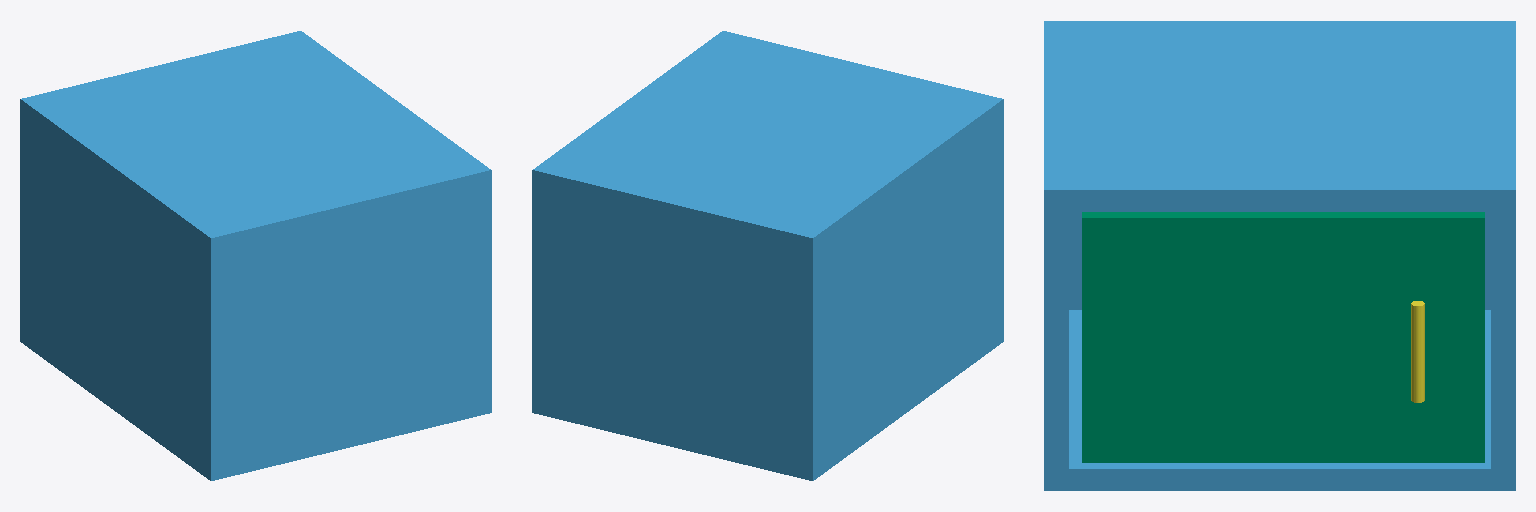
robot.urdf — my_cabinet:
<?xml version="1.0" ?>
<robot name="my_cabinet">
	<link name="world"/>
	<joint name="virtual_joint" type="fixed">
		<parent link="world"/>
		<child link="base_cabinet_link"/>
		<origin xyz="0.0 0.0 0.0" rpy="0.0 0.0 0.0"/>
	</joint>
	<link name="base_cabinet_link">
		<visual>
			<origin xyz="0.0 -0.0025 -0.11518015602135884" rpy="0.0 0.0 0.0"/>
			<geometry>
				<box size="0.3 0.35291790624515396 0.018"/>
			</geometry>
		</visual>
		<collision name="base_cabinet_link_collision_0">
			<origin xyz="0.0 -0.0025 -0.11518015602135884" rpy="0.0 0.0 0.0"/>
			<geometry>
				<box size="0.3 0.35291790624515396 0.018"/>
			</geometry>
		</collision>
		<visual>
			<origin xyz="0.0 0.164958953122577 0.0" rpy="0.0 0.0 0.0"/>
			<geometry>
				<box size="0.3 0.018 0.24836031204271766"/>
			</geometry>
		</visual>
		<collision name="base_cabinet_link_collision_1">
			<origin xyz="0.0 0.164958953122577 0.0" rpy="0.0 0.0 0.0"/>
			<geometry>
				<box size="0.3 0.018 0.24836031204271766"/>
			</geometry>
		</collision>
		<visual>
			<origin xyz="0.0 -0.169958953122577 0.0" rpy="0.0 0.0 0.0"/>
			<geometry>
				<box size="0.3 0.018 0.24836031204271766"/>
			</geometry>
		</visual>
		<collision name="base_cabinet_link_collision_2">
			<origin xyz="0.0 -0.169958953122577 0.0" rpy="0.0 0.0 0.0"/>
			<geometry>
				<box size="0.3 0.018 0.24836031204271766"/>
			</geometry>
		</collision>
		<visual>
			<origin xyz="0.0 -0.0025 0.11518015602135884" rpy="0.0 0.0 0.0"/>
			<geometry>
				<box size="0.3 0.35291790624515396 0.018"/>
			</geometry>
		</visual>
		<collision name="base_cabinet_link_collision_3">
			<origin xyz="0.0 -0.0025 0.11518015602135884" rpy="0.0 0.0 0.0"/>
			<geometry>
				<box size="0.3 0.35291790624515396 0.018"/>
			</geometry>
		</collision>
		<visual>
			<origin xyz="-0.141 -0.0025 0.0" rpy="0.0 0.0 0.0"/>
			<geometry>
				<box size="0.018 0.35291790624515396 0.24836031204271766"/>
			</geometry>
		</visual>
		<collision name="base_cabinet_link_collision_4">
			<origin xyz="-0.141 -0.0025 0.0" rpy="0.0 0.0 0.0"/>
			<geometry>
				<box size="0.018 0.35291790624515396 0.24836031204271766"/>
			</geometry>
		</collision>
		<inertial>
			<mass value="0.200000"/>
			<inertia ixx="0.003104" ixy="0.0" ixz="0.0" iyy="0.002528" iyz="0.0" izz="0.003576"/>
		</inertial>
	</link>
	<link name="door_link">
		<visual>
			<origin xyz="0.0 -0.15095895312257698 0.0"/>
			<geometry>
				<box size="0.018 0.30191790624515397 0.20236031204271768"/>
			</geometry>
		</visual>
		<collision name="door_link_collision">
			<origin xyz="0.0 -0.15095895312257698 0.0"/>
			<geometry>
				<box size="0.018 0.30191790624515397 0.20236031204271768"/>
			</geometry>
		</collision>
		<inertial>
			<mass value="0.200000"/>
			<inertia ixx="0.002202" ixy="0.0" ixz="0.0" iyy="0.000688" iyz="0.0" izz="0.001525"/>
		</inertial>
	</link>
	<joint name="door_joint" type="revolute">
		<origin xyz="0.141 -0.15095895312257698 0.0" rpy="0.000000 -0.000000 3.141593"/>
		<axis xyz="0 0 1"/>
		<parent link="base_cabinet_link"/>
		<child link="door_link"/>
		<limit effort="50" lower="-1.658062789394613" upper="0" velocity="10"/>
		<dynamics friction="3.5" damping="3.5"/>
	</joint>
	<link name="handle_link">
		<visual>
			<origin xyz="0.0 0.0 0.0" rpy="0.0 0.0 0.0"/>
			<geometry>
				<cylinder length="0.08" radius="0.005"/>
			</geometry>
		</visual>
		<collision name="handle_link_collision_0">
			<origin xyz="0.0 0.0 0.0" rpy="0.0 0.0 0.0"/>
			<geometry>
				<cylinder length="0.08" radius="0.005"/>
			</geometry>
		</collision>
		<visual>
			<origin xyz="-0.01 0.0 0.02" rpy="0.0 1.5707963267948966 0.0"/>
			<geometry>
				<cylinder length="0.02" radius="0.003"/>
			</geometry>
		</visual>
		<collision name="handle_link_collision_1">
			<origin xyz="-0.01 0.0 0.02" rpy="0.0 1.5707963267948966 0.0"/>
			<geometry>
				<cylinder length="0.01" radius="0.003"/>
			</geometry>
		</collision>
		<visual>
			<origin xyz="-0.01 0.0 -0.02" rpy="0.0 1.5707963267948966 0.0"/>
			<geometry>
				<cylinder length="0.02" radius="0.003"/>
			</geometry>
		</visual>
		<collision name="handle_link_collision_2">
			<origin xyz="-0.01 0.0 -0.02" rpy="0.0 1.5707963267948966 0.0"/>
			<geometry>
				<cylinder length="0.02" radius="0.003"/>
			</geometry>
		</collision>
		<inertial>
			<mass value="0.050000"/>
			<inertia ixx="0.000027" ixy="0.0" ixz="0.0" iyy="0.000029" iyz="0.0" izz="0.000003"/>
		</inertial>
	</link>
	<joint name="handle_joint" type="fixed">
		<origin xyz="-0.028999999999999998 -0.251917906245154 0.0" rpy="0.000000 -0.000000 3.141593"/>
		<parent link="door_link"/>
		<child link="handle_link"/>
	</joint>
	<gazebo reference="base_cabinet_link">
		<sensor name="main_sensor" type="contact">
			<selfCollide>true</selfCollide>
			<alwaysOn>true</alwaysOn>
			<updateRate>5.0</updateRate>
			<material>Gazebo/Red</material>
			<contact>
				<collision>base_cabinet_link_collision_0_collision</collision>
				<collision>base_cabinet_link_collision_1_collision</collision>
				<collision>base_cabinet_link_collision_2_collision</collision>
				<collision>base_cabinet_link_collision_3_collision</collision>
				<collision>base_cabinet_link_collision_4_collision</collision>
			</contact>
			<plugin name="gazebo_ros_bumper_controller" filename="libgazebo_ros_bumper.so">
				<bumperTopicName>/contact</bumperTopicName>
				<frameName>world</frameName>
			</plugin>
		</sensor>
	</gazebo>
	<gazebo reference="door_link">
		<sensor name="main_sensor" type="contact">
			<selfCollide>true</selfCollide>
			<alwaysOn>true</alwaysOn>
			<updateRate>5.0</updateRate>
			<material>Gazebo/Red</material>
			<contact>
				<collision>door_link_collision_collision</collision>
			</contact>
			<plugin name="gazebo_ros_bumper_controller" filename="libgazebo_ros_bumper.so">
				<bumperTopicName>/contact_door</bumperTopicName>
				<frameName>contact_door</frameName>
			</plugin>
		</sensor>
	</gazebo>
	<gazebo reference="door_link">
		<mu>3.0</mu>
		<mu2>3.0</mu2>
		<kp>10000000</kp>
		<kd>100</kd>
	</gazebo>
</robot>

--- Render facts (derived) ---
3 views of the same robot in one strip: view 1: azimuth 30°, elevation 25°; view 2: azimuth 150°, elevation 25°; view 3: azimuth 270°, elevation 25° (orthographic).
Model my_cabinet with 4 links and 3 joints (1 revolute, 2 fixed), rooted at world, posed every joint at zero.
Visible links, largest first — view 1: base_cabinet_link; view 2: base_cabinet_link; view 3: base_cabinet_link, door_link, handle_link.
Boxes of the visible links, box(x1,y1,x2,y2) form: base_cabinet_link: box(20, 31, 491, 480); base_cabinet_link: box(532, 31, 1003, 480); base_cabinet_link: box(1044, 21, 1515, 490); door_link: box(1082, 212, 1484, 462); handle_link: box(1411, 301, 1424, 402).
Bounding box of the posed robot: 0.325 × 0.3529 × 0.2484 m (x, y, z).
Geometry: primitives only (box / cylinder / sphere), no mesh files.
